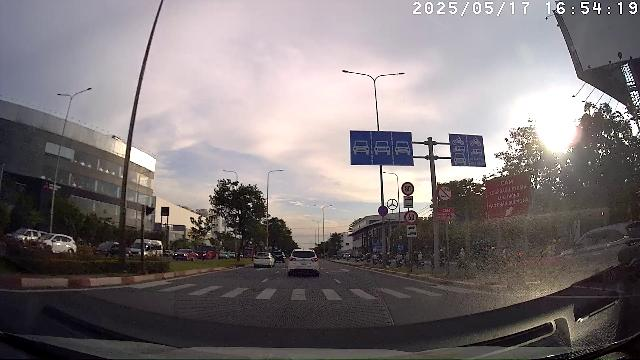127-toc-do-toi-da-60: (404, 210, 418, 225)
127-toc-do-toi-da-80: (401, 181, 414, 196)
